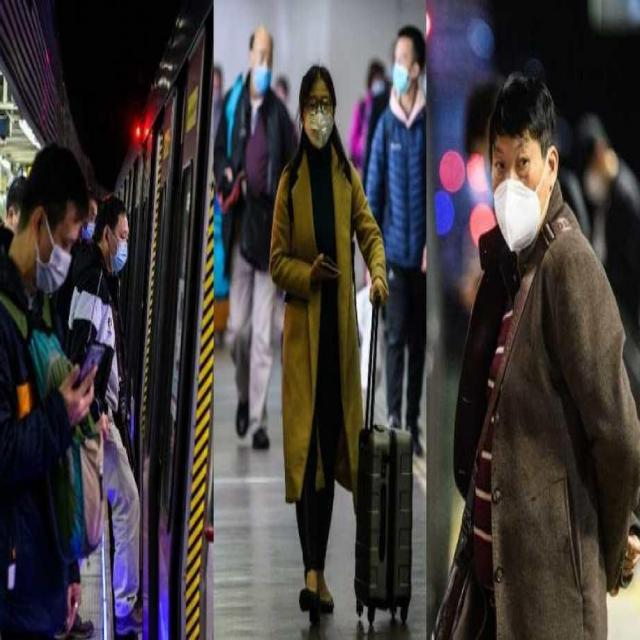face: (492, 123, 555, 258), (34, 191, 86, 292), (296, 61, 342, 153), (389, 18, 434, 98), (99, 192, 132, 278), (247, 22, 277, 102), (370, 68, 386, 101), (213, 72, 223, 106)
